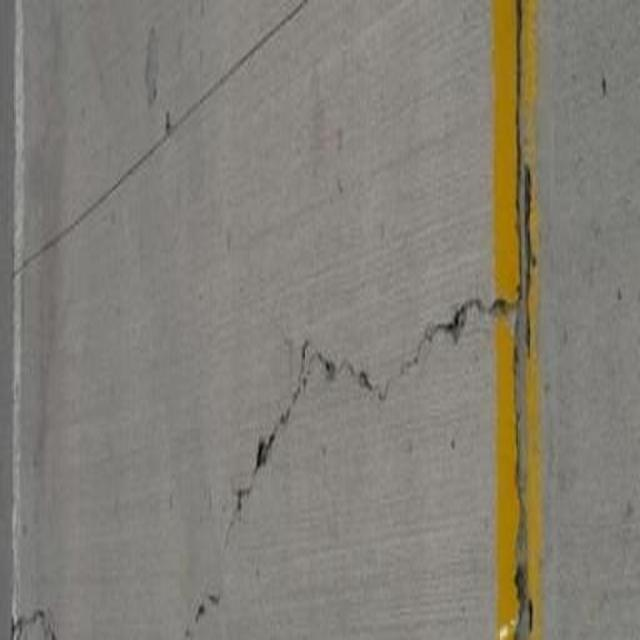minor crack: (0, 14, 32, 634), (388, 303, 484, 384), (314, 348, 382, 396), (448, 297, 486, 325)
moderate crack: (502, 11, 538, 620), (532, 19, 557, 630), (9, 607, 53, 640), (188, 587, 220, 631), (488, 297, 511, 317)
severe crack: (15, 0, 330, 266), (181, 328, 335, 640), (508, 306, 532, 398), (221, 500, 245, 548), (144, 30, 160, 100), (229, 467, 258, 505), (256, 427, 277, 470), (520, 173, 533, 234), (373, 374, 394, 400), (512, 567, 521, 592), (525, 600, 532, 632), (10, 628, 23, 640), (528, 252, 536, 268)
